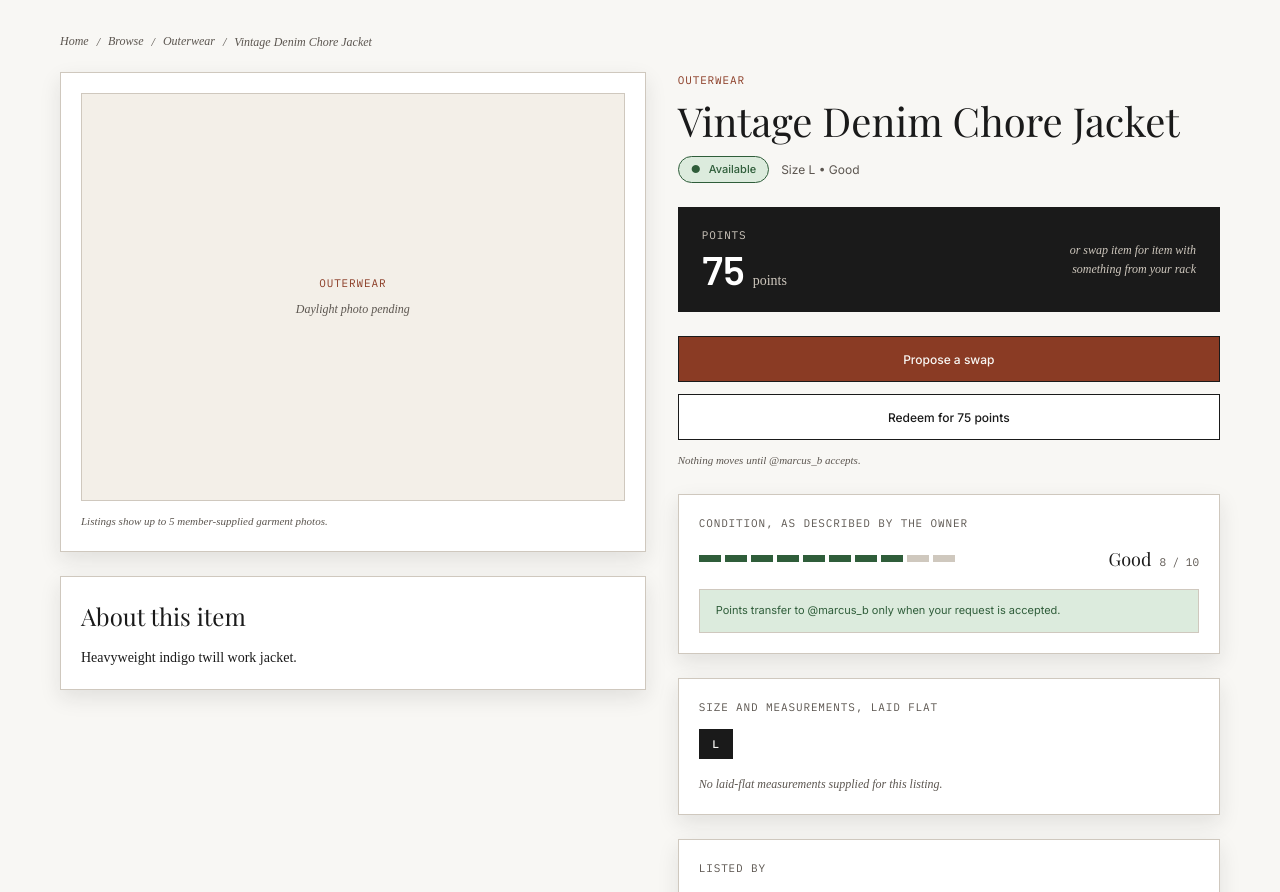
ItemDetailPage Redeem Dialog & Propose Swap Wiring › disables confirm with short reason when balance is too low
Click the button "Redeem for 75 points" at [949, 417], box [678,394,1220,440]
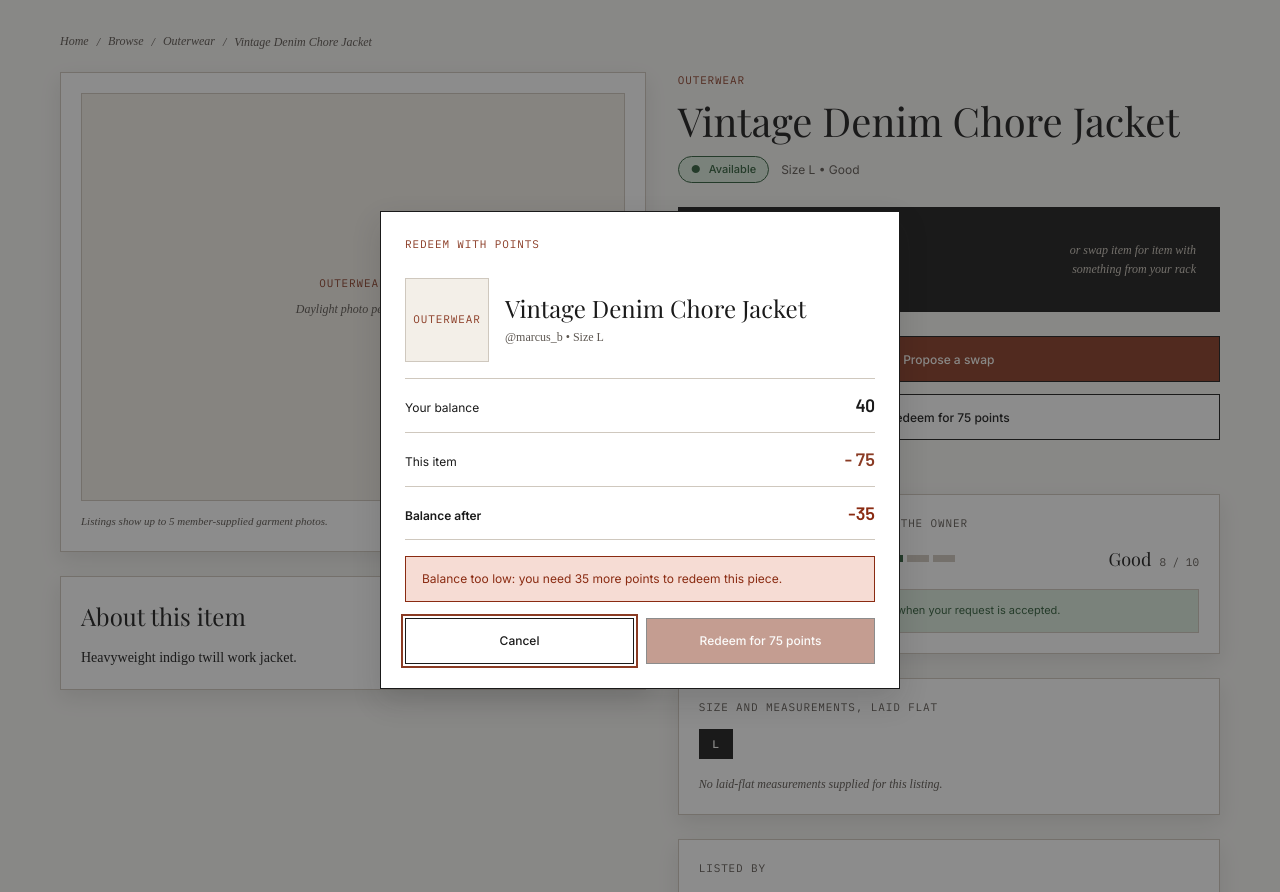
Now the button "Redeem for 75 points" is disabled, box [646,618,875,664]
Now the text "Balance too low: you need 35 more points to redeem this piece." is shown, box [405,556,875,602]
